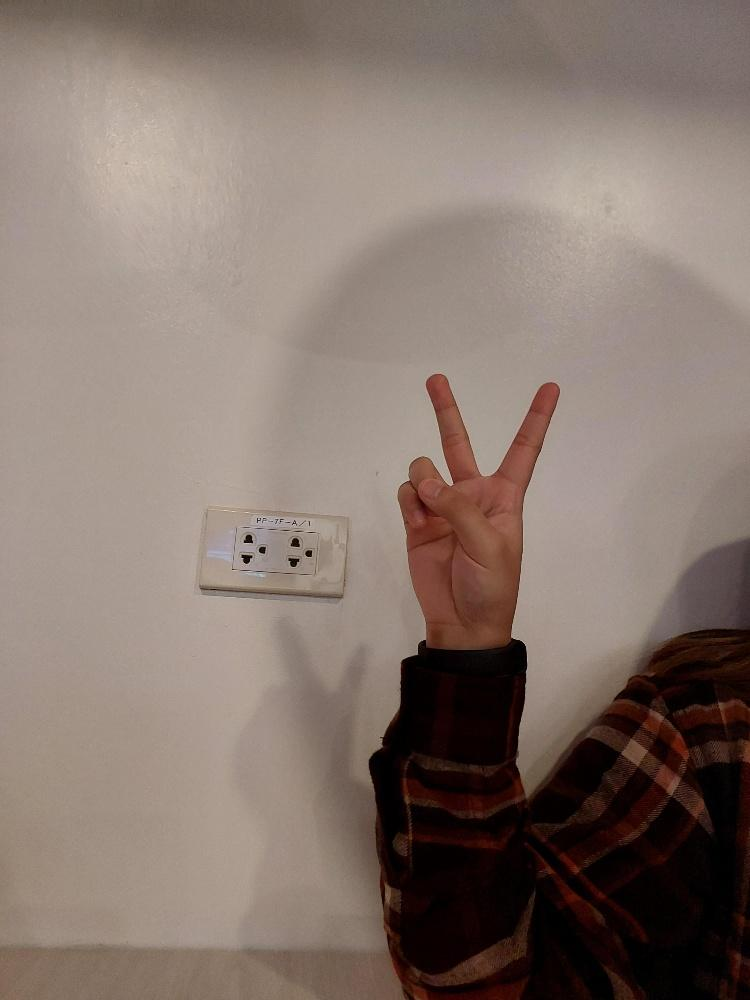v: (395, 369, 564, 643)
